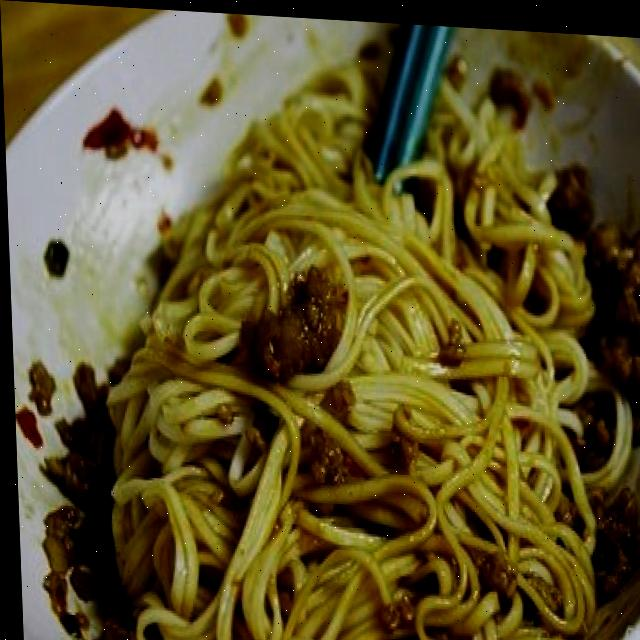面条主食: (33, 27, 640, 640)
